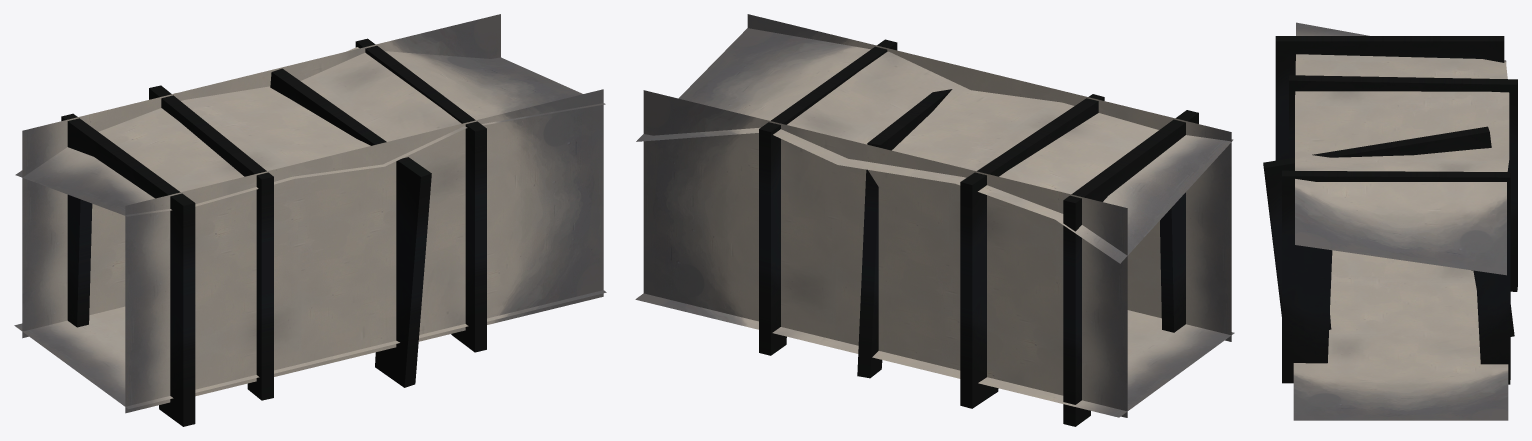
Rendered from gangrechtmain 1.fbx.
3 views of the same model, side by side, from view 1: azimuth 30°, elevation 25°; view 2: azimuth 150°, elevation 25°; view 3: azimuth 270°, elevation 25° (orthographic). The views are drawn at different scales.
Parts seen in each view (by area): view 1: pPlane3; view 2: pPlane3; view 3: pPlane3.
Part boxes in pixels (box(x1,y1,x2,y2)): pPlane3: box(14, 14, 606, 426); pPlane3: box(635, 14, 1234, 426); pPlane3: box(1263, 22, 1517, 420).
Size of the model in its own units: 34.5 by 16.82 by 16.99.
